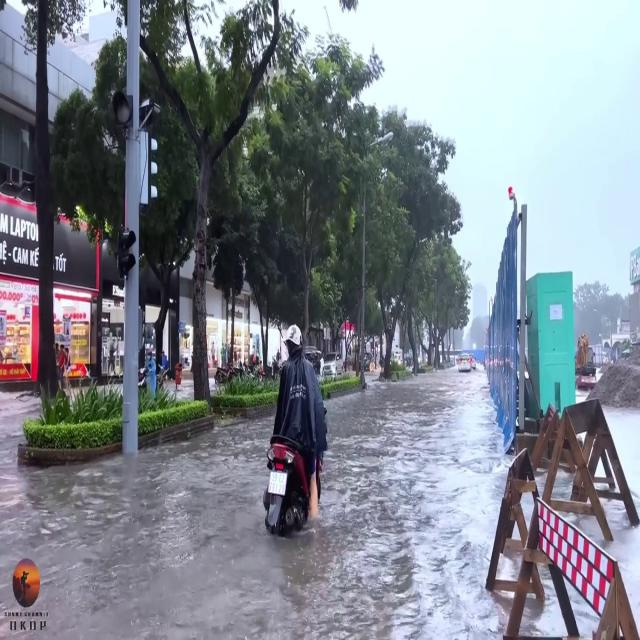bien_trang: (268, 470, 287, 494)
